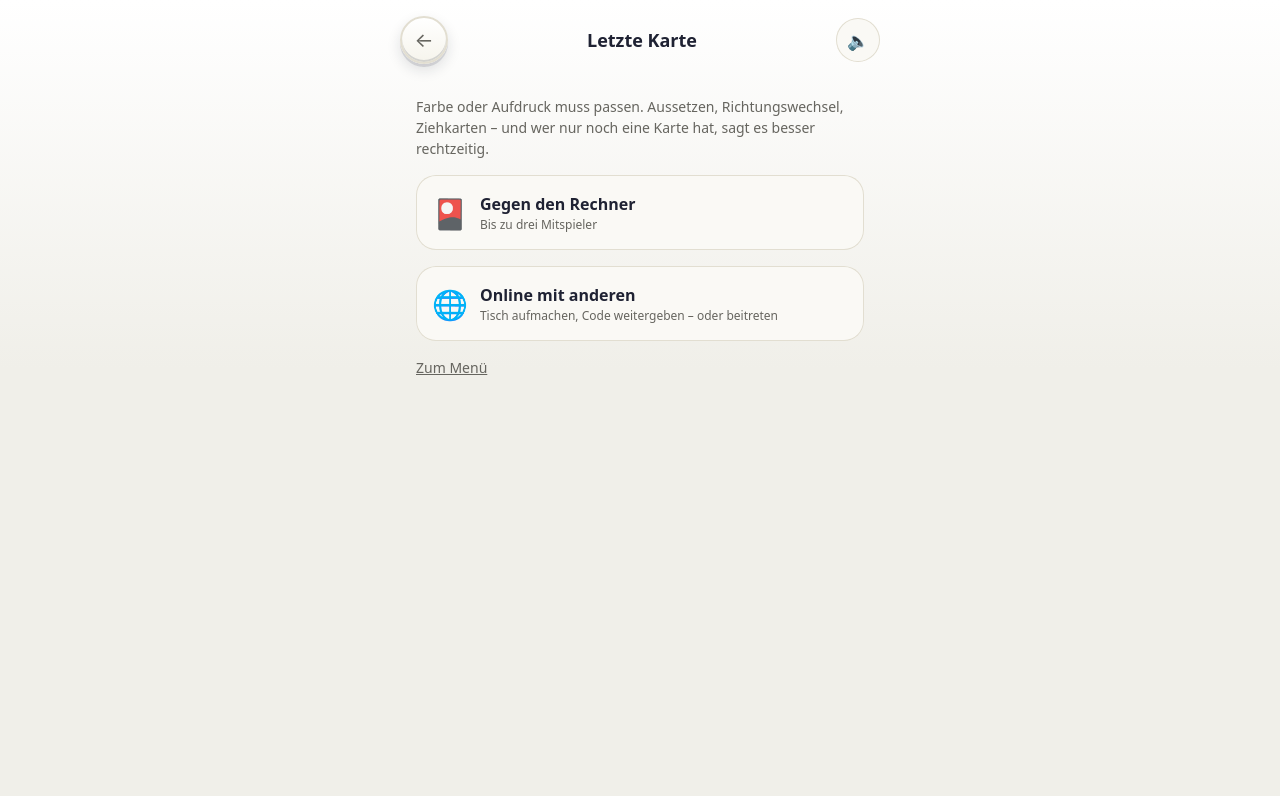
Letzte Karte › lässt zwischen Bunt und Extrem wählen
Step 1. Click the button "🎴 Gegen den Rechner Bis zu drei Mitspieler" → (450, 212), box [416,175,864,250]
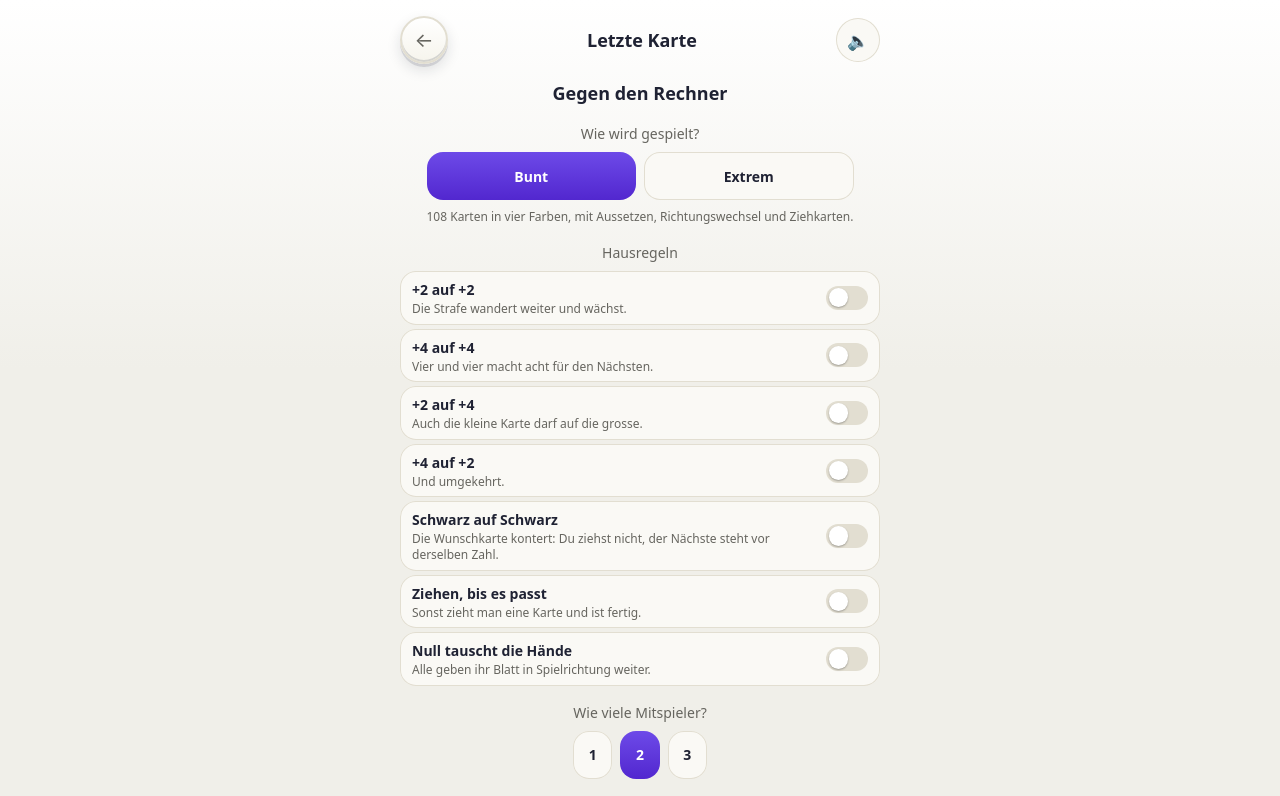
expect the button "Bunt" is shown: met, box [426,152,636,200]
Step 2. Click the button "Extrem" → (749, 176), box [644,152,854,200]
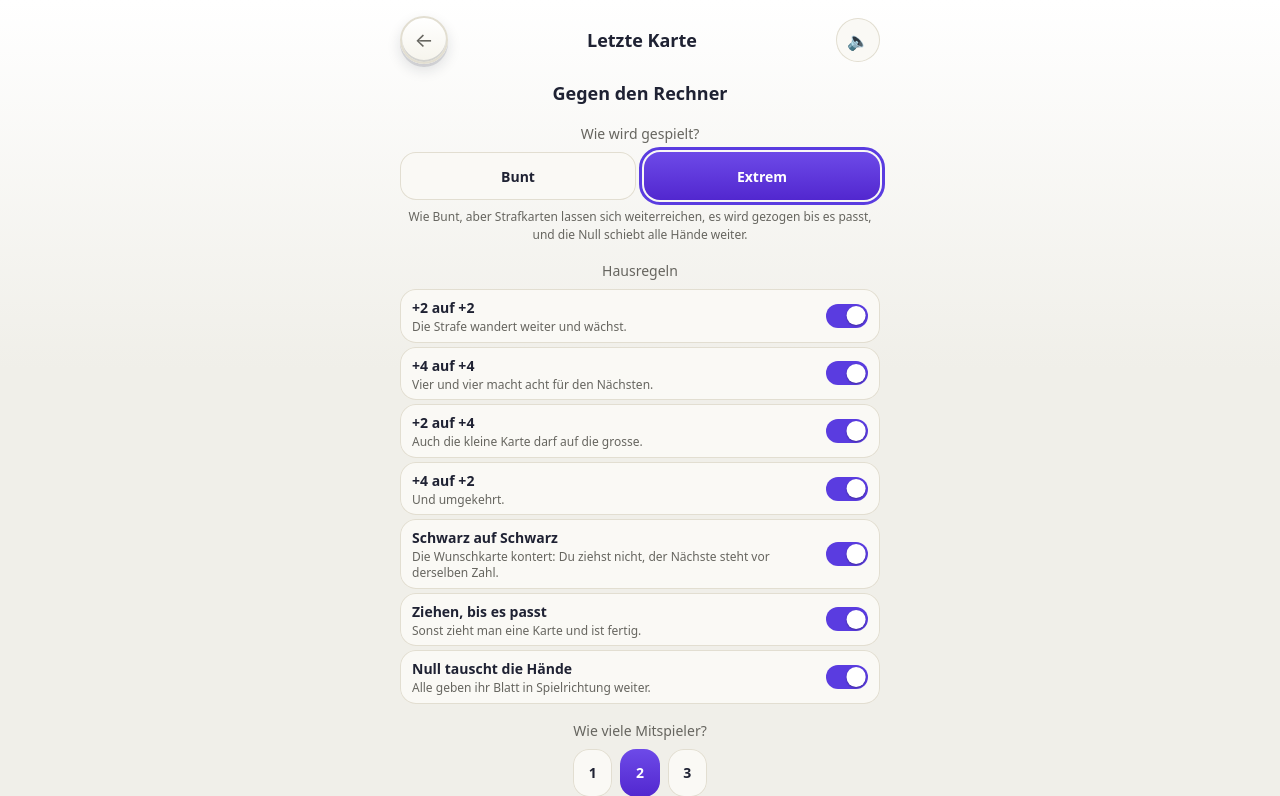
expect the text "Strafkarten lassen sich weiterreichen" is shown: met, box [408,208,872,243]
